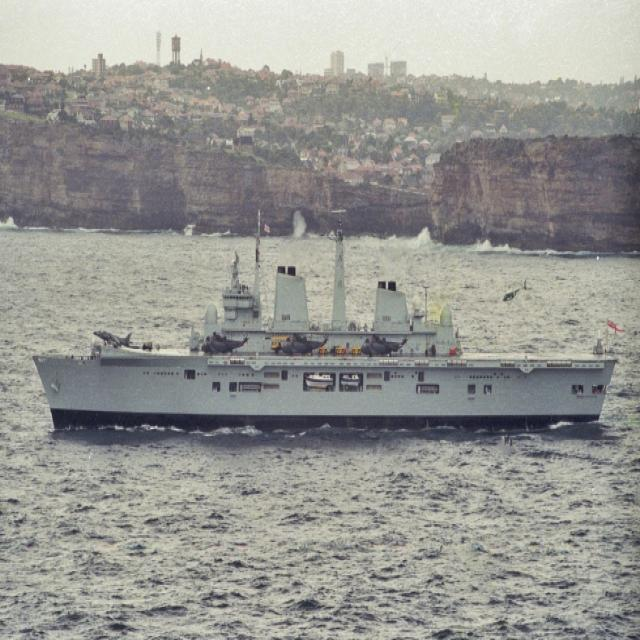Portanaves: (30, 202, 624, 441)
